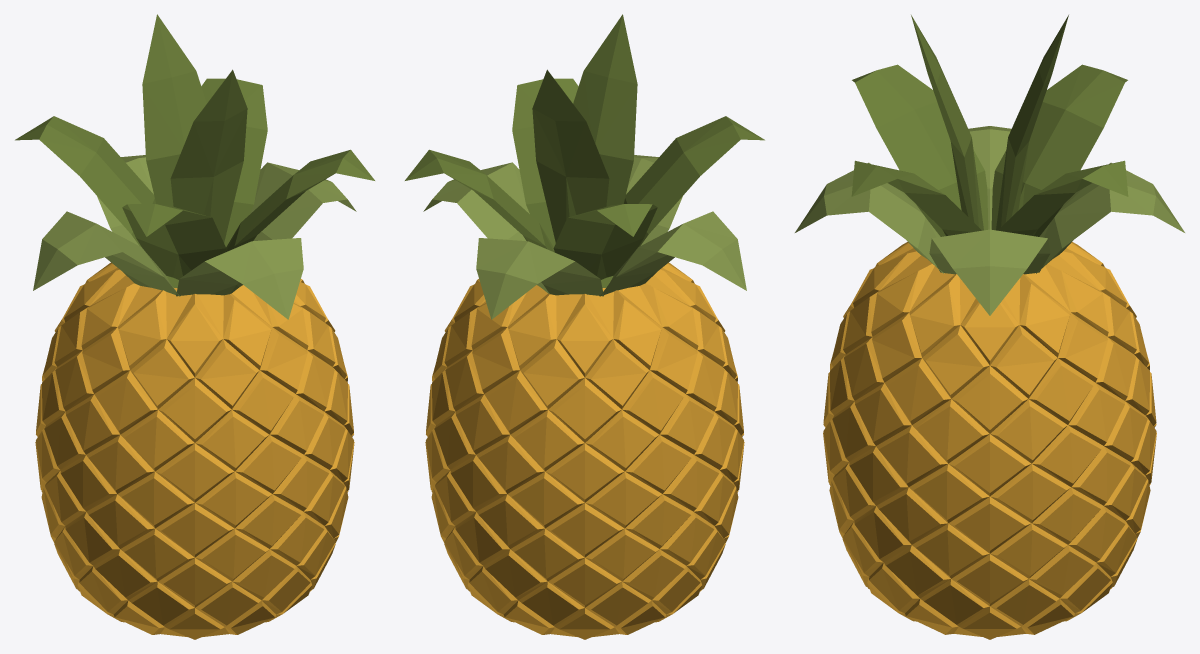
File: pineapple.glb
The picture shows the model from 3 angles, left to right: view 1: azimuth 30°, elevation 25°; view 2: azimuth 150°, elevation 25°; view 3: azimuth 270°, elevation 25°; orthographic projection. The views are drawn at different scales.
Parts seen in each view (by area): view 1: Continuous shallow diamond skin; view 2: Continuous shallow diamond skin; view 3: Continuous shallow diamond skin.
Boxes of the visible parts, x1,y1,x2,y2 form: Continuous shallow diamond skin: (15, 14, 374, 639); Continuous shallow diamond skin: (405, 14, 764, 639); Continuous shallow diamond skin: (795, 15, 1184, 639).
Size of the model in its own units: 0.168 by 0.281 by 0.168.
